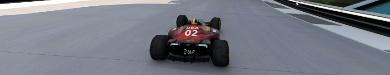Car: (148, 14, 229, 66)
